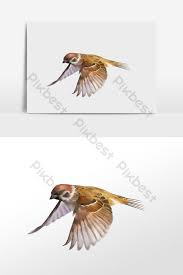hsparrow: (31, 183, 155, 261), (46, 48, 128, 99)
